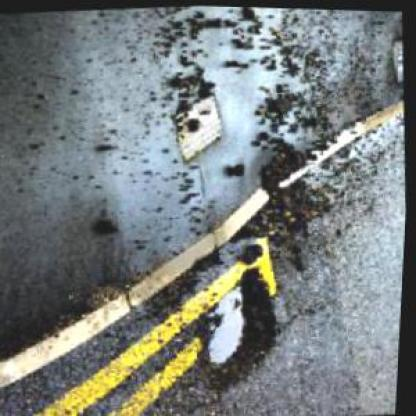pothole: (193, 262, 288, 394)
